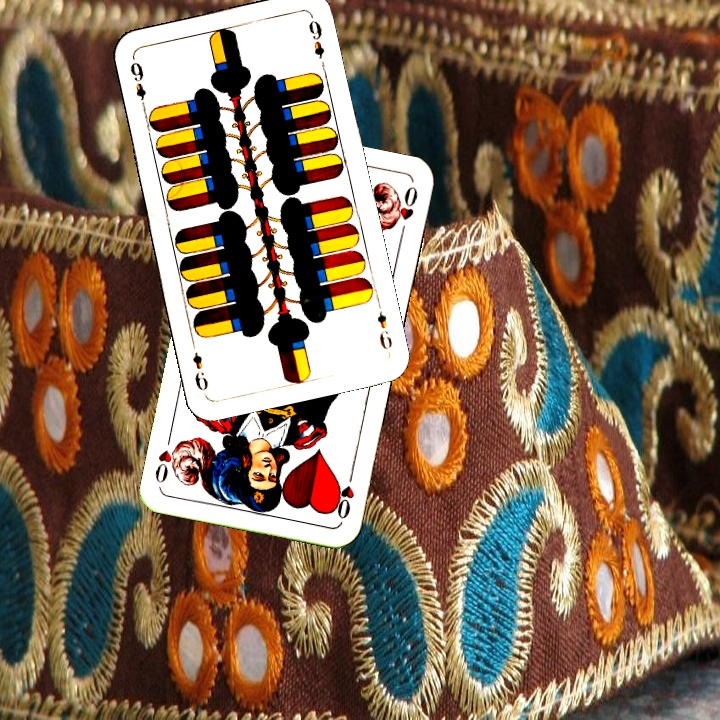E9: (126, 54, 149, 112), (373, 297, 395, 352)
HO: (332, 465, 357, 522)
